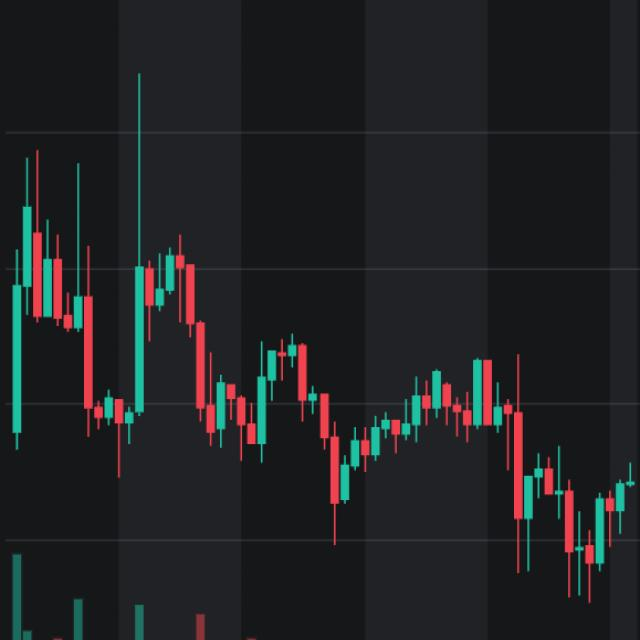Channel-down: (2, 151, 635, 627)
